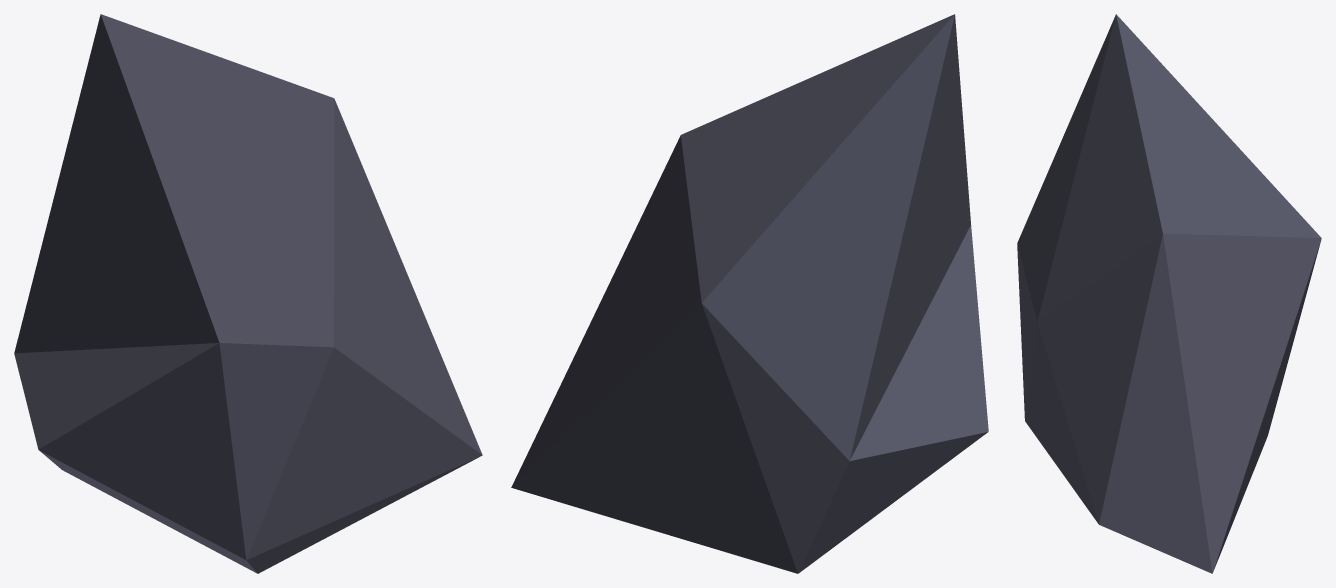
File: rock_03.fbx
3 views of the same model, side by side, from view 1: azimuth 30°, elevation 25°; view 2: azimuth 150°, elevation 25°; view 3: azimuth 270°, elevation 25° (orthographic). The views are drawn at different scales.
Visible parts, largest first — view 1: Icosphere; view 2: Icosphere; view 3: Icosphere.
Boxes of the visible parts, x1,y1,x2,y2 form: Icosphere: (14,14,482,573); Icosphere: (511,14,988,573); Icosphere: (1017,14,1321,573).
Bounding box in the file's own units: 1089 × 1371 × 850.
